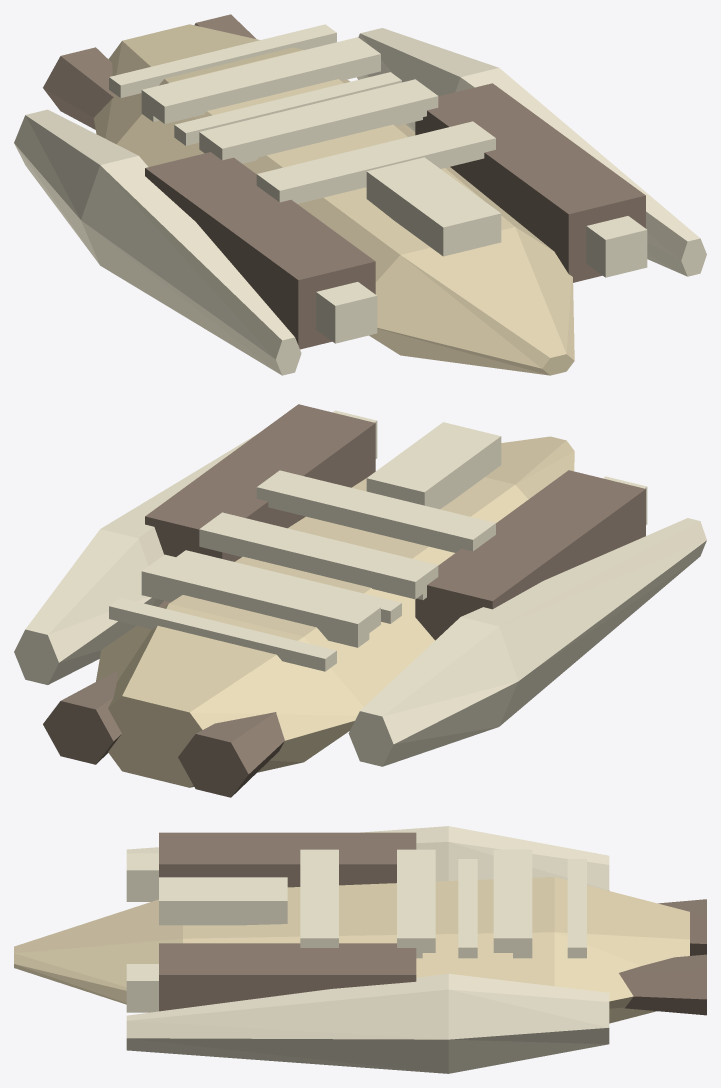
3 views of the same model, one above another, from view 1: azimuth 30°, elevation 25°; view 2: azimuth 150°, elevation 25°; view 3: azimuth 270°, elevation 25° (orthographic). The views are drawn at different scales.
Size of the model in its own units: 2.56 by 0.8043 by 4.18.
